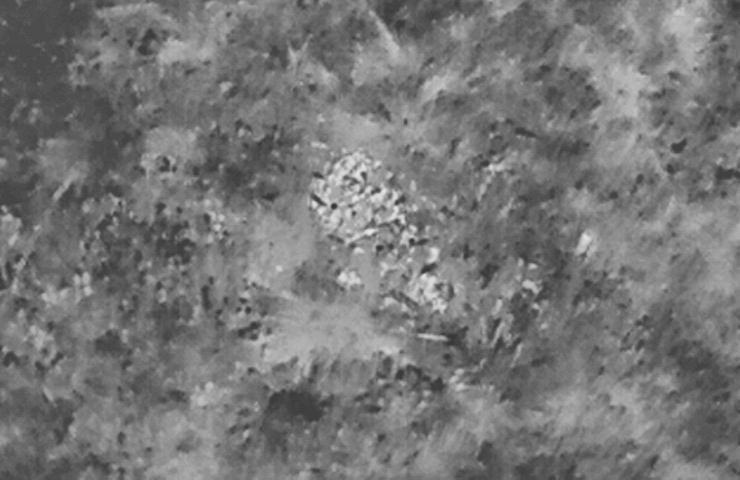landmines: (309, 148, 431, 260)
